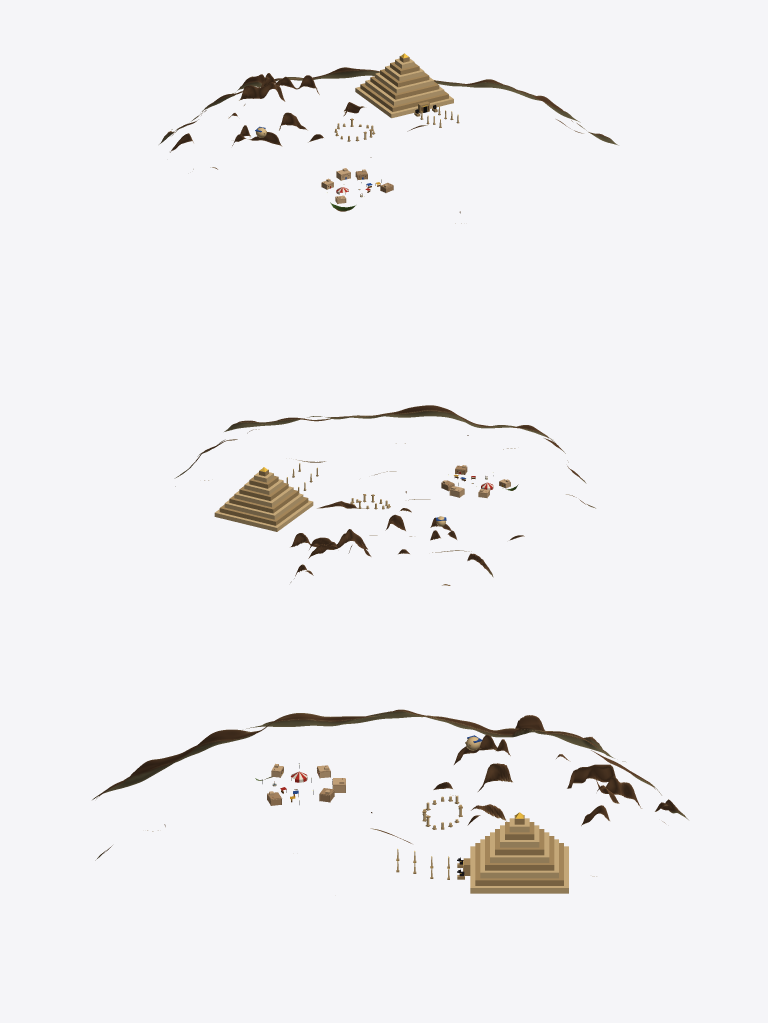
File: island_desert.glb
3 renders of one model, top to bottom at view 1: azimuth 30°, elevation 25°; view 2: azimuth 150°, elevation 25°; view 3: azimuth 270°, elevation 25°, orthographic. The views are drawn at different scales.
Parts seen in each view (by area): view 1: Terrain_desert, desert_Pyramid; view 2: Terrain_desert, desert_Pyramid; view 3: Terrain_desert, desert_Pyramid.
Boxes of the visible parts, left/top/right/bottom form: Terrain_desert: left=159, top=67, right=618, bottom=223; desert_Pyramid: left=355, top=53, right=453, bottom=118; Terrain_desert: left=174, top=405, right=595, bottom=585; desert_Pyramid: left=214, top=467, right=313, bottom=531; Terrain_desert: left=92, top=709, right=688, bottom=876; desert_Pyramid: left=463, top=812, right=568, bottom=893.
Size of the model in its own units: 480 by 62.4 by 480.
